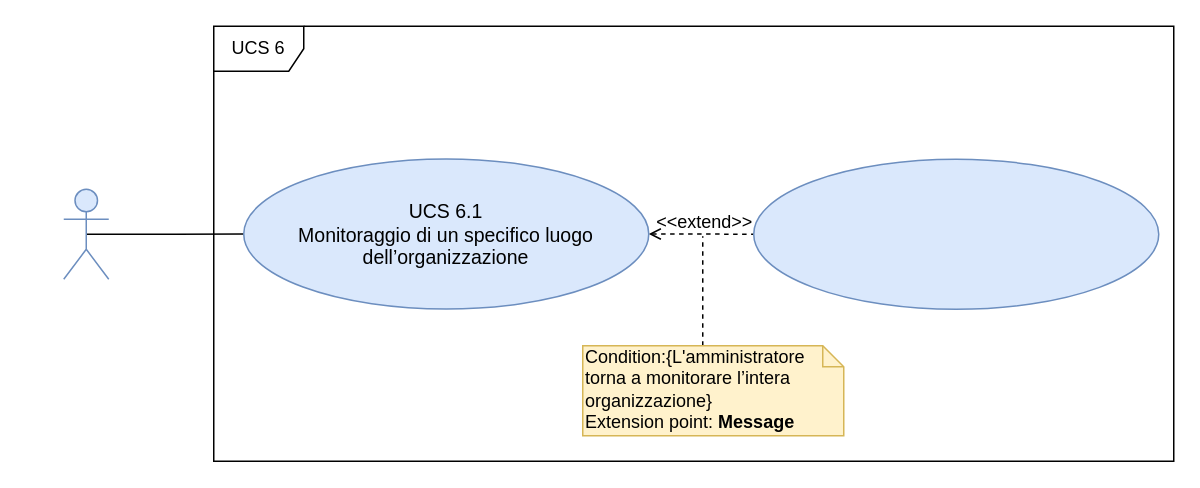
Some shapes in this 1200 by 488 pixel diagram are drawn without their labels. Here are the shapes that lost their labels. From the top down, the centre of each, then its label:
At pixel 85 233: "Amministratore Visualizzatore".
At pixel 955 233: "UCS 6.1.1 Ritorno al monitoraggio dell’organizzazione".
